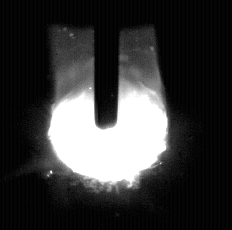arame: (95, 0, 120, 129)
poca: (47, 0, 170, 230)
